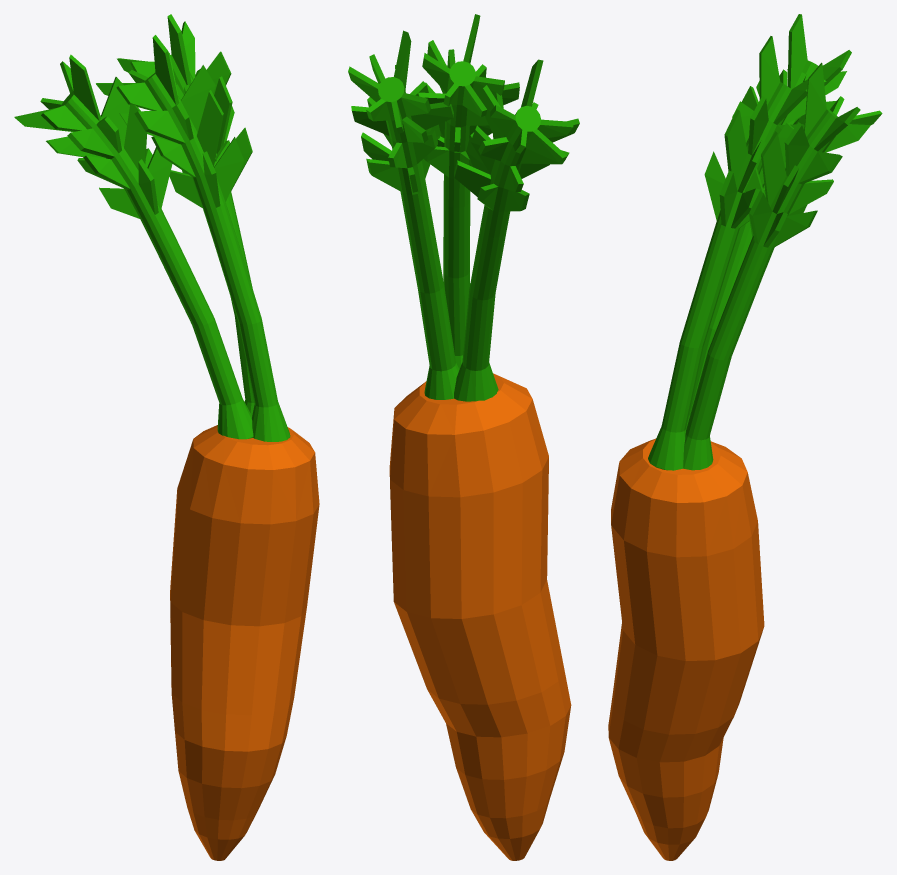
File: Carrot_v.1.0.fbx
3 renders of one model, left to right at view 1: azimuth 30°, elevation 25°; view 2: azimuth 150°, elevation 25°; view 3: azimuth 270°, elevation 25°, orthographic. The views are drawn at different scales.
Visible parts, largest first — view 1: Cylinder.003; view 2: Cylinder.003; view 3: Cylinder.003.
Part boxes in pixels (box(x1,y1,x2,y2)): Cylinder.003: box(14, 14, 319, 860); Cylinder.003: box(348, 14, 579, 860); Cylinder.003: box(608, 14, 882, 860).
Bounding box in the file's own units: 150 × 509 × 155.
